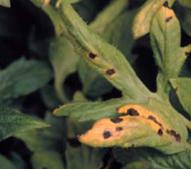Tomato leaf bacterial spot: (65, 2, 191, 156)
